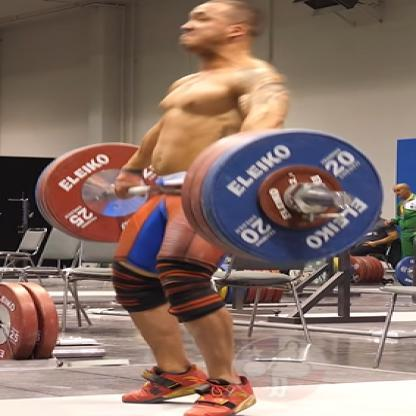barbell: (34, 126, 386, 271)
